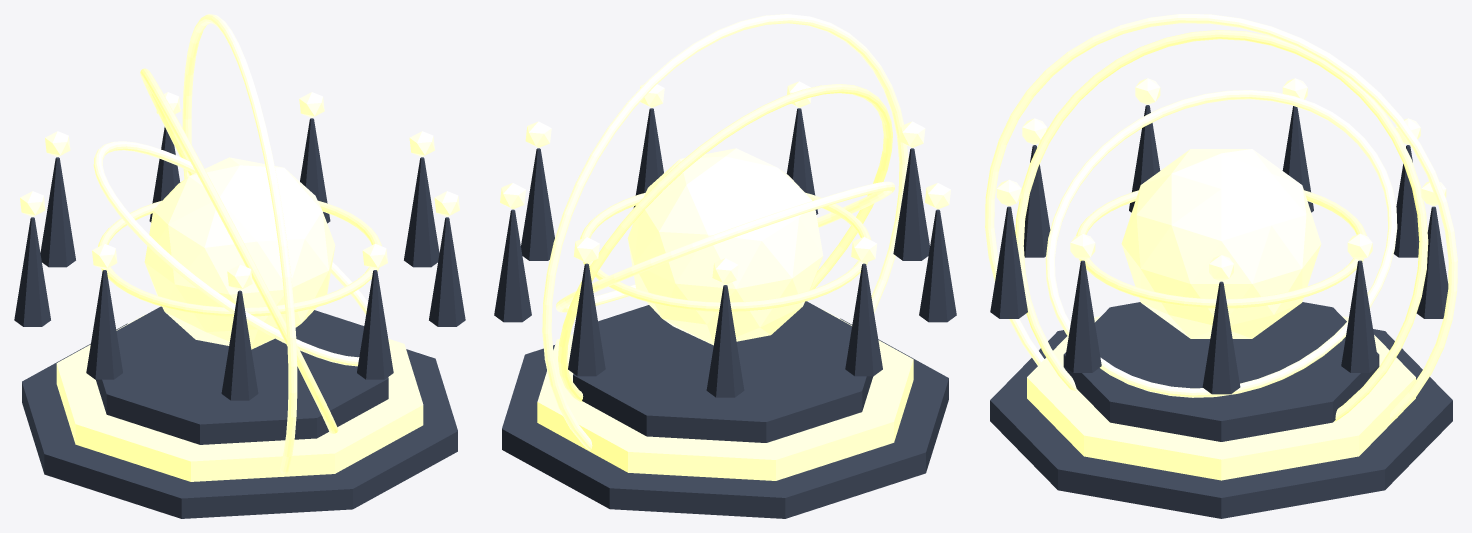
The model's file is gpu-blender-v56.glb.
3 renders of one model, left to right at view 1: azimuth 30°, elevation 25°; view 2: azimuth 150°, elevation 25°; view 3: azimuth 270°, elevation 25°, orthographic. The views are drawn at different scales.
Visible parts, largest first — view 1: Cylinder.002, Cylinder, SovereignCore_aeo-graph-engine, Cylinder.001, Torus.003, Torus.001, Torus.002, Torus, Cone.006, Cone, Cone.003, Cone.005 (+13 smaller); view 2: Cylinder.002, SovereignCore_aeo-graph-engine, Cylinder, Cylinder.001, Torus.003, Torus.002, Torus.001, Torus, Cone.002, Cone.004, Cone.001, Cone.005 (+12 smaller); view 3: SovereignCore_aeo-graph-engine, Cylinder.002, Cylinder, Cylinder.001, Torus.003, Torus.002, Torus.001, Torus, Cone, Cone.007, Cone.001, Cone.008 (+9 smaller).
Boxes of the visible parts, left/top/right/bottom form: Cylinder.002: left=96, top=306, right=388, bottom=444; Cylinder: left=22, top=323, right=457, bottom=518; SovereignCore_aeo-graph-engine: left=144, top=157, right=335, bottom=349; Cylinder.001: left=56, top=314, right=423, bottom=481; Torus.003: left=182, top=14, right=297, bottom=474; Torus.001: left=93, top=141, right=367, bottom=366; Torus.002: left=140, top=68, right=338, bottom=433; Torus: left=98, top=200, right=381, bottom=316; Cone.006: left=221, top=290, right=258, bottom=400; Cone: left=404, top=157, right=439, bottom=267; Cone.003: left=40, top=157, right=75, bottom=267; Cone.005: left=86, top=270, right=122, bottom=379; Cylinder.002: left=573, top=301, right=873, bottom=442; SovereignCore_aeo-graph-engine: left=627, top=148, right=823, bottom=345; Cylinder: left=502, top=318, right=948, bottom=518; Cylinder.001: left=537, top=309, right=913, bottom=480; Torus.003: left=542, top=14, right=908, bottom=450; Torus.002: left=558, top=84, right=892, bottom=401; Torus.001: left=556, top=181, right=894, bottom=312; Torus: left=580, top=192, right=870, bottom=311; Cone.002: left=568, top=263, right=605, bottom=376; Cone.004: left=845, top=263, right=882, bottom=376; Cone.001: left=494, top=209, right=531, bottom=322; Cone.005: left=919, top=209, right=956, bottom=322; SovereignCore_aeo-graph-engine: left=1121, top=149, right=1321, bottom=338; Cylinder.002: left=1063, top=302, right=1379, bottom=441; Cylinder: left=990, top=329, right=1452, bottom=518; Cylinder.001: left=1027, top=316, right=1415, bottom=480; Torus.003: left=985, top=14, right=1457, bottom=422; Torus.002: left=1015, top=30, right=1428, bottom=421; Torus.001: left=1045, top=90, right=1397, bottom=397; Torus: left=1076, top=190, right=1366, bottom=308; Cone: left=1202, top=281, right=1240, bottom=394; Cone.007: left=990, top=206, right=1027, bottom=318; Cone.001: left=1341, top=260, right=1378, bottom=372; Cone.008: left=1064, top=260, right=1101, bottom=372.
Bounding box in the file's own units: 4.41 × 4.7 × 4.49.
